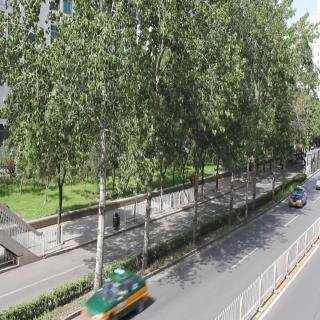Car: (83, 271, 148, 320), (290, 182, 308, 210)
